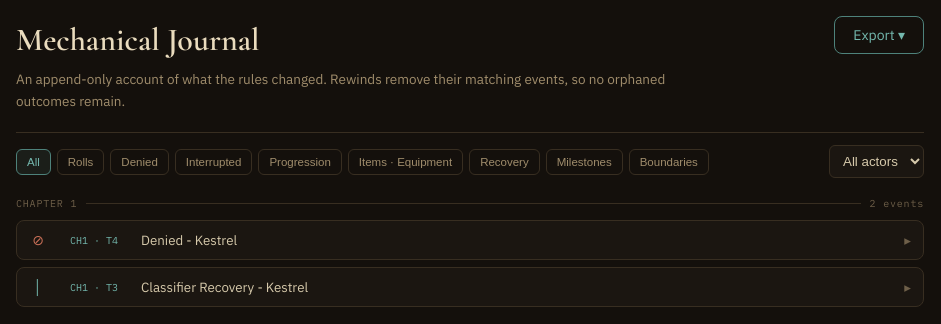
Test case: Mechanical Journal › files classifier_recovery as interrupted, never as denied
Click the button "Denied" at (140, 162), box [110, 149, 169, 175]
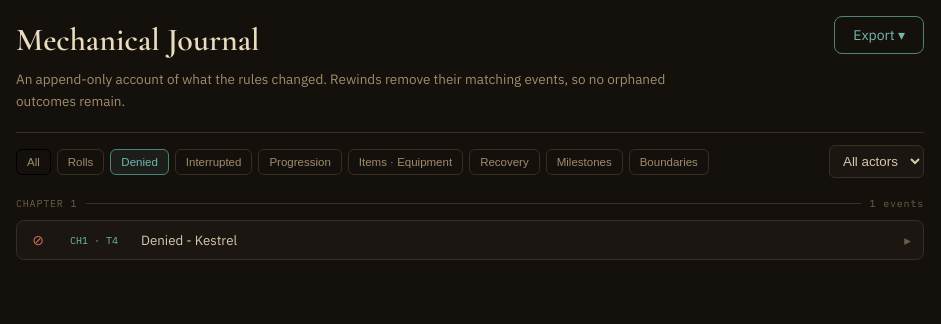
Result: the button "Classifier Recovery" is gone
Click the button "Interrupted" at (214, 162), box [175, 149, 252, 175]
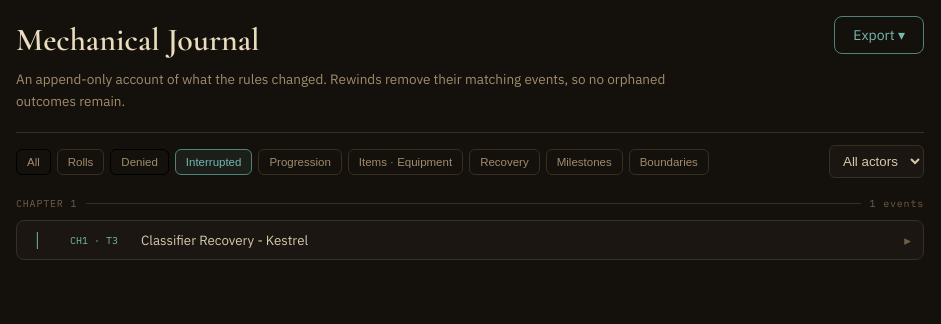
Result: the text "Classifier Recovery - Kestrel" is shown at [141, 231, 308, 249]
